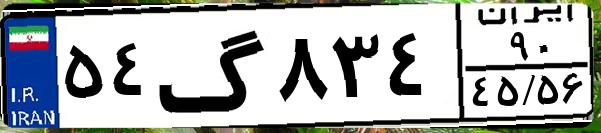0: (537, 27, 568, 80)
3: (330, 28, 385, 110)
4: (385, 28, 445, 110), (110, 28, 156, 98), (470, 70, 495, 125)
5: (57, 26, 110, 100), (495, 70, 520, 125), (535, 70, 560, 125)
6: (560, 70, 590, 125)
8: (270, 28, 330, 110)
9: (508, 27, 537, 80)
گ: (156, 12, 270, 120)
